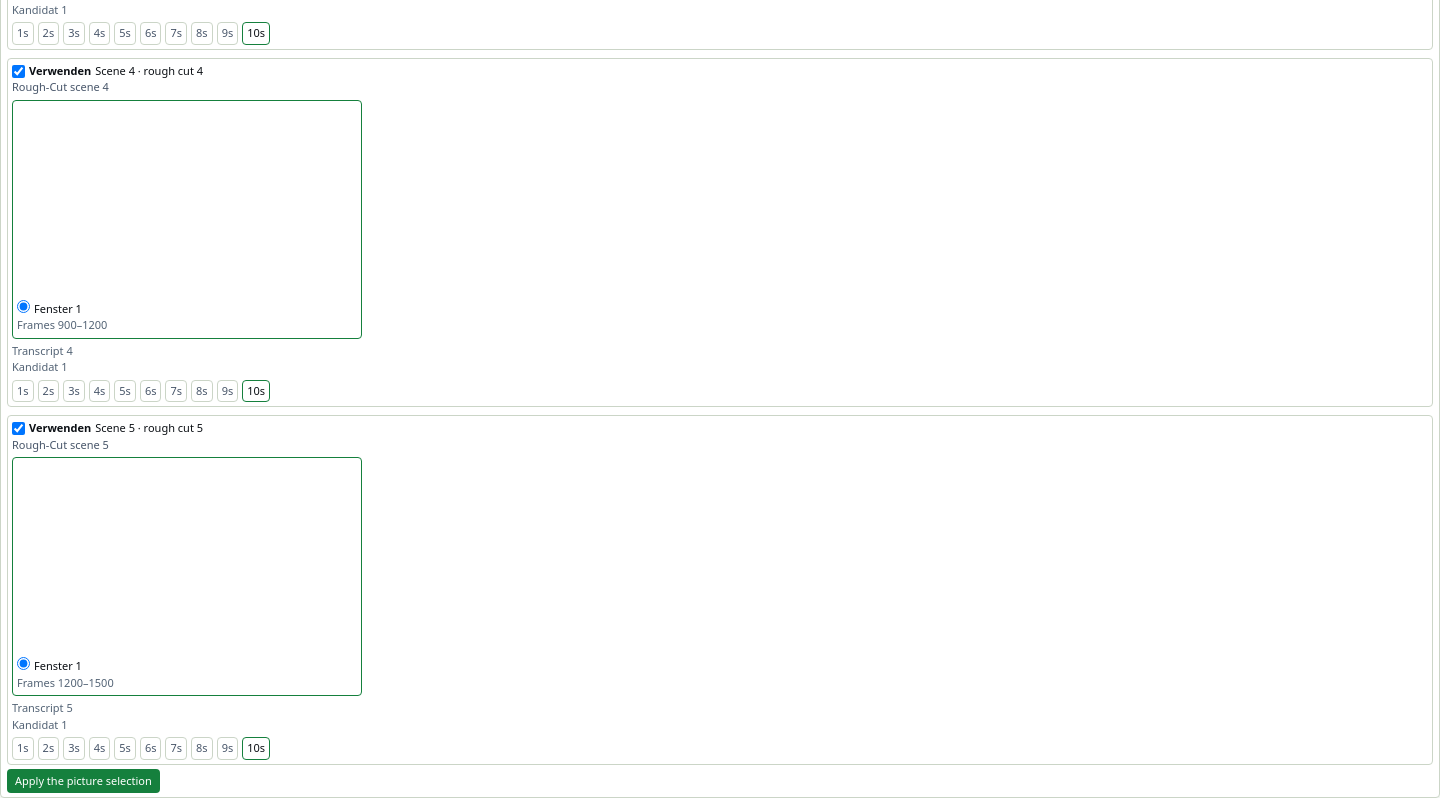
Test case: VisualSelectionCard › blocks confirmation after a draft save error and offers an explicit retry
(page scrolled)
What coordinates should you click on to do the following:
click the checkbox with test id "visual-scene-use-4"
I would click on:
 (18, 429)
Its box is top-left (12, 422), bottom-right (25, 435).
(page scrolled)
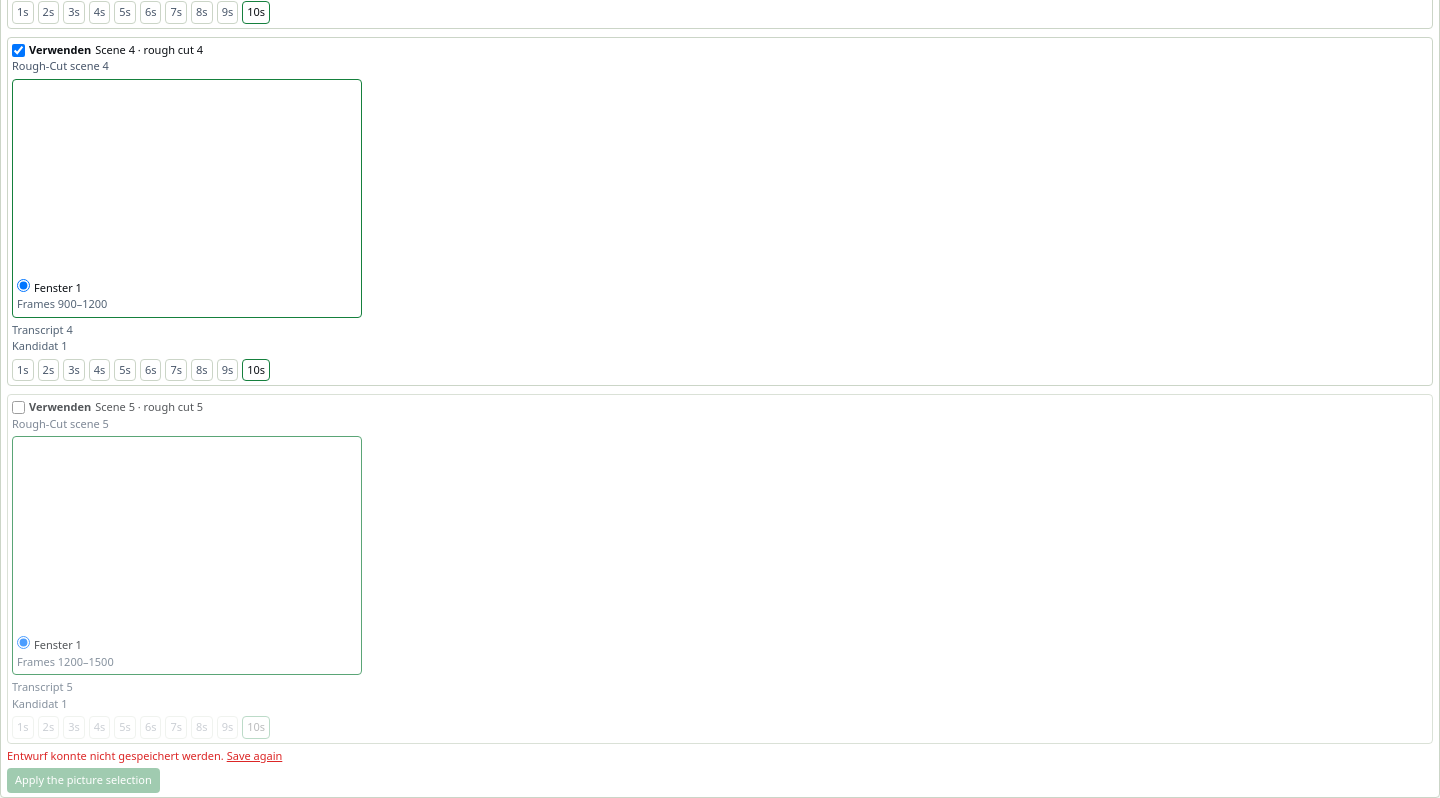
expect the button "Save again" is shown: met, box top-left (227, 748), bottom-right (282, 764)
expect the button "Apply the picture selection" is disabled: met, box top-left (7, 768), bottom-right (160, 793)
